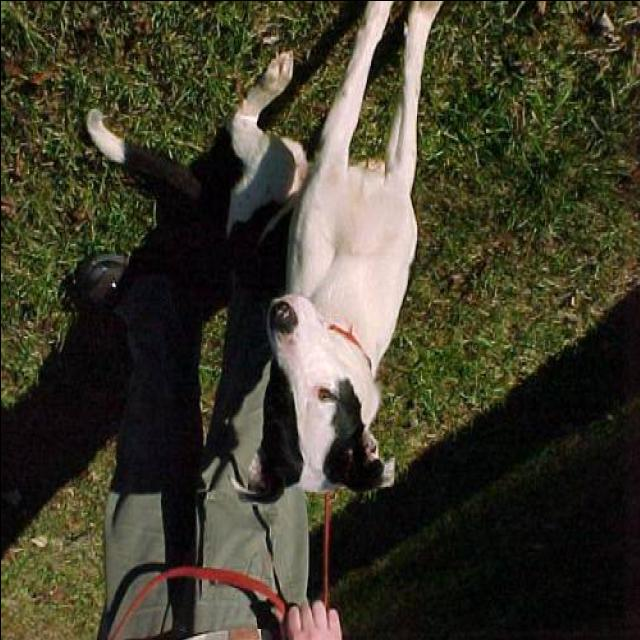dog: (79, 0, 446, 520)
